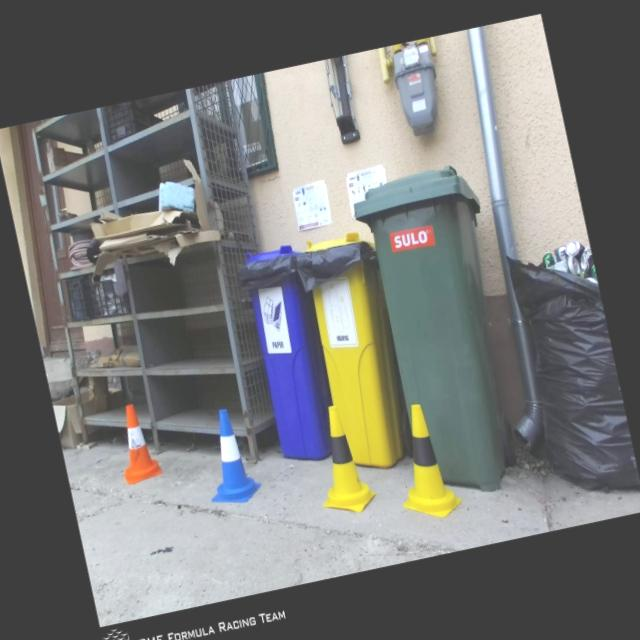blue_cone: (193, 404, 264, 510)
orange_cone: (110, 399, 163, 486)
yellow_cone: (384, 398, 464, 526), (304, 401, 379, 518)
